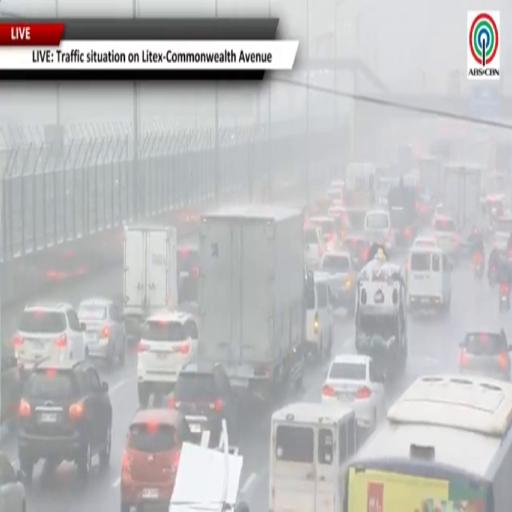bus: (344, 376, 511, 511)
car: (18, 360, 112, 483), (120, 409, 192, 511), (137, 312, 199, 407), (169, 361, 237, 446), (13, 302, 85, 375), (322, 355, 385, 429), (78, 298, 126, 366), (460, 331, 511, 380), (320, 251, 357, 315), (306, 272, 333, 357), (0, 347, 22, 424), (0, 453, 26, 511), (177, 244, 200, 304), (432, 216, 461, 261), (364, 210, 395, 251), (309, 216, 340, 250), (341, 235, 370, 269), (304, 226, 324, 268), (328, 204, 350, 241), (492, 215, 511, 250), (412, 236, 438, 249), (327, 187, 343, 205)
motorcycle: (472, 252, 484, 280), (499, 283, 510, 312), (474, 263, 483, 280)
truck: (198, 204, 306, 403), (355, 245, 407, 380), (123, 226, 178, 340), (443, 164, 482, 232), (419, 155, 443, 202)
